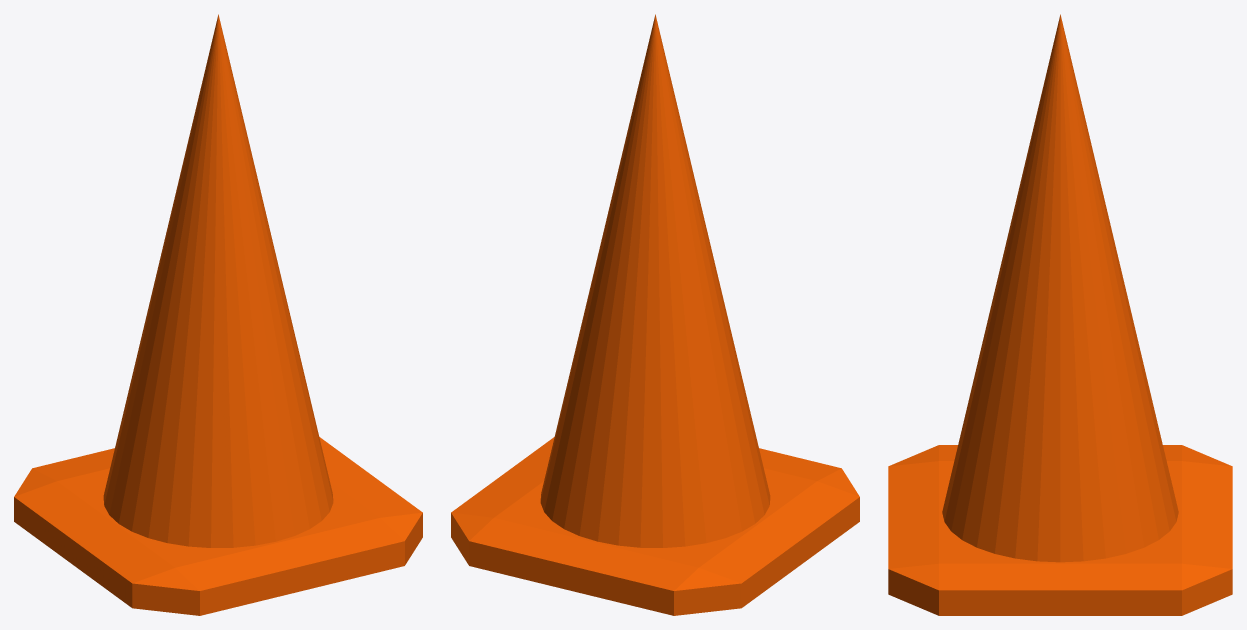
File: TrafficConeWIP.fbx
3 views of the same model, side by side, from view 1: azimuth 30°, elevation 25°; view 2: azimuth 150°, elevation 25°; view 3: azimuth 270°, elevation 25° (orthographic). The views are drawn at different scales.
Visible parts, largest first — view 1: Cone, Cube; view 2: Cone, Cube; view 3: Cone, Cube.
Boxes of the visible parts, x1=… form: Cone: x1=103, y1=14, x2=333, y2=547; Cube: x1=14, y1=437, x2=422, y2=615; Cone: x1=540, y1=14, x2=770, y2=547; Cube: x1=451, y1=437, x2=859, y2=615; Cone: x1=942, y1=14, x2=1178, y2=562; Cube: x1=888, y1=445, x2=1232, y2=615.
Size of the model in its own units: 349 by 597 by 349.
